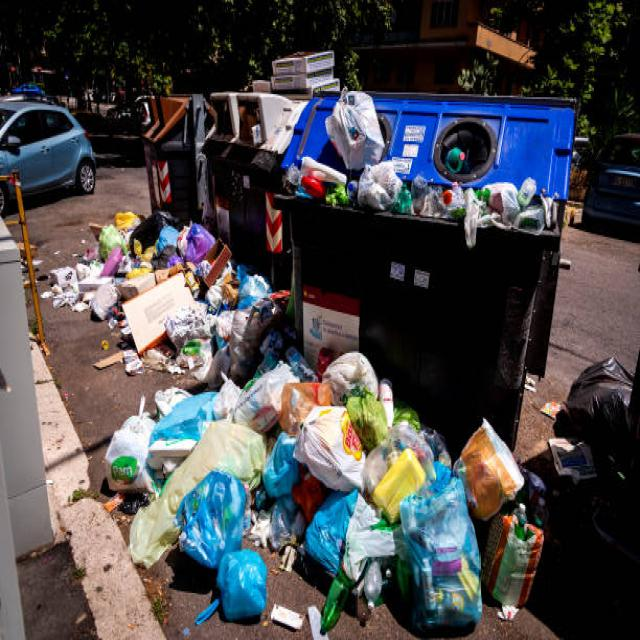trash: (99, 71, 606, 610)
